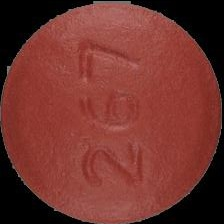55111-621: (0, 0, 224, 224)
